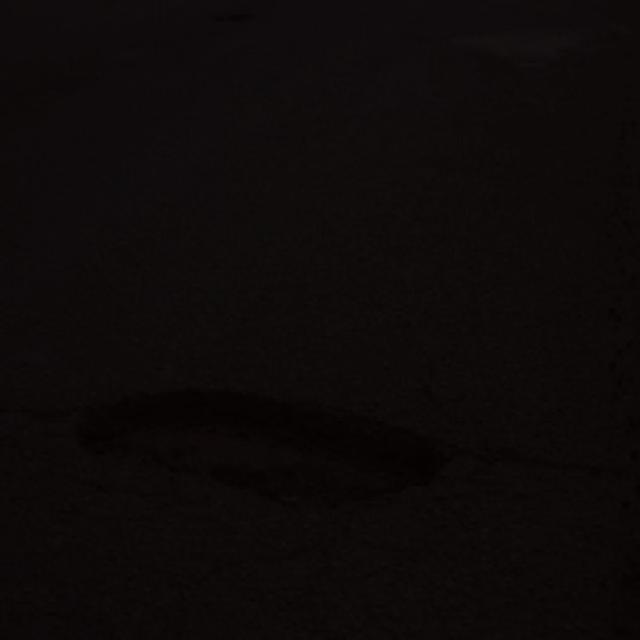Pothole: (63, 382, 453, 538)
